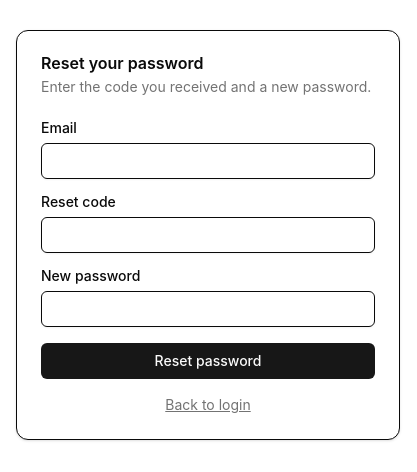
Test: ResetPasswordPage › Weak new password shows field-level errors
The width and height of the screenshot is (417, 472).
Type "a@b.com" into the field labelled "Email" at {"x": 208, "y": 161}, box [41, 143, 375, 179]
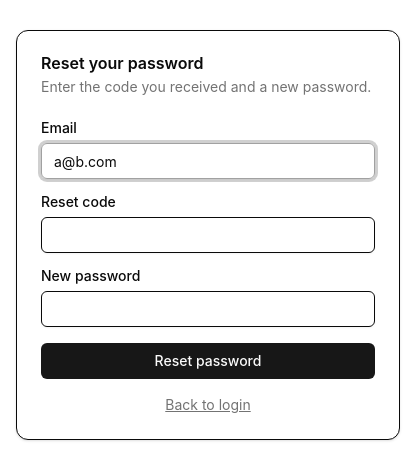
Type "123456" into the field labelled "Reset code" at {"x": 208, "y": 235}, box [41, 217, 375, 253]
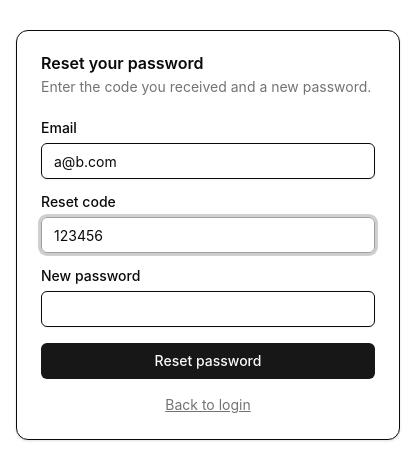
Type "Password1" into the password field labelled "New password" at {"x": 208, "y": 309}, box [41, 291, 375, 327]
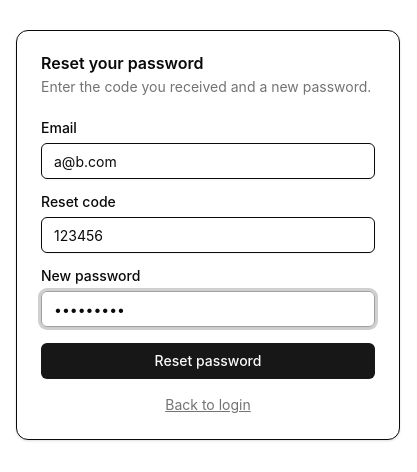
Click the button "Reset password" at {"x": 208, "y": 361}, box [41, 343, 375, 379]
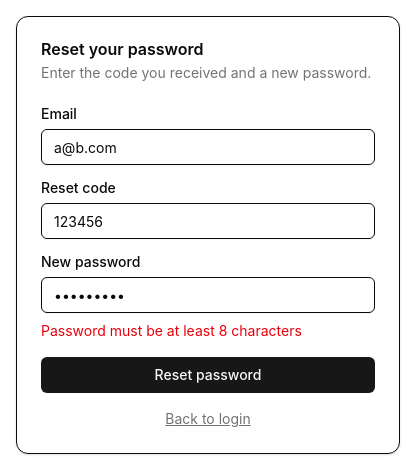
Check: the text "Password must be at least 8 characters" is shown, box [41, 322, 302, 339]
